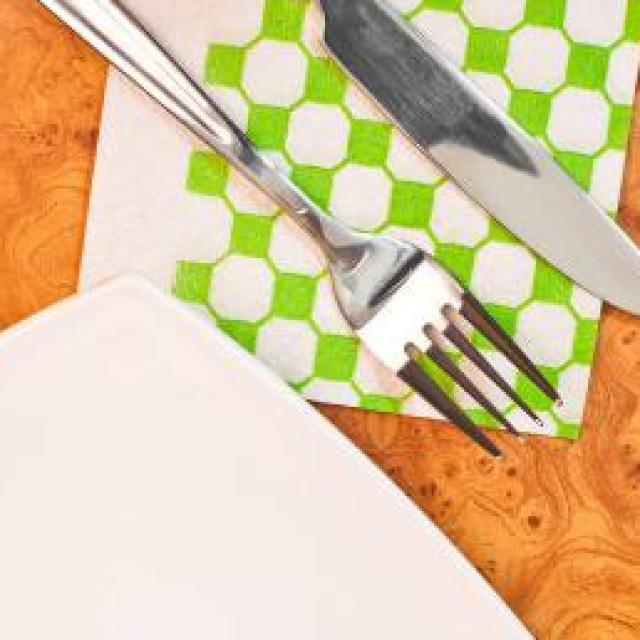knife: (218, 0, 640, 320)
